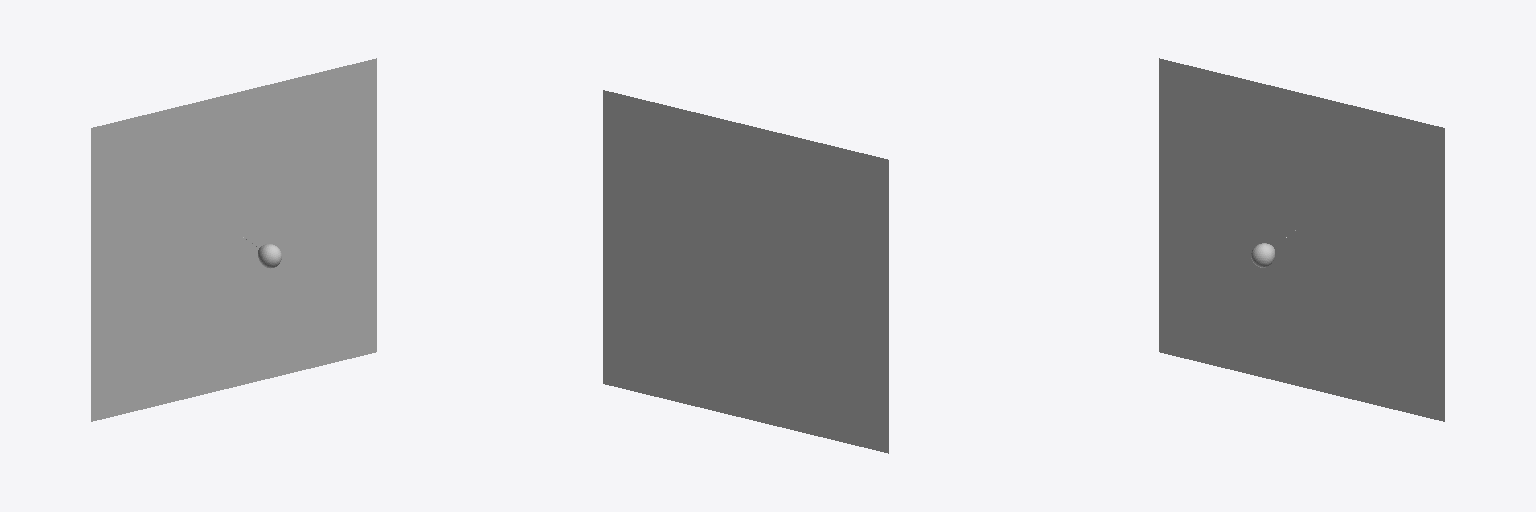
The model's file is balloon.obj.
The picture shows the model from 3 angles: view 1: azimuth 30°, elevation 25°; view 2: azimuth 150°, elevation 25°; view 3: azimuth 330°, elevation 25°; orthographic projection.
Parts seen in each view (by area): view 1: Plane01; view 2: Plane01; view 3: Plane01.
Part boxes in pixels (bbox=[...]): Plane01: bbox=[91, 58, 376, 421]; Plane01: bbox=[603, 90, 888, 453]; Plane01: bbox=[1159, 58, 1444, 421].
Size of the model in its own units: 1416 by 1391 by 372.